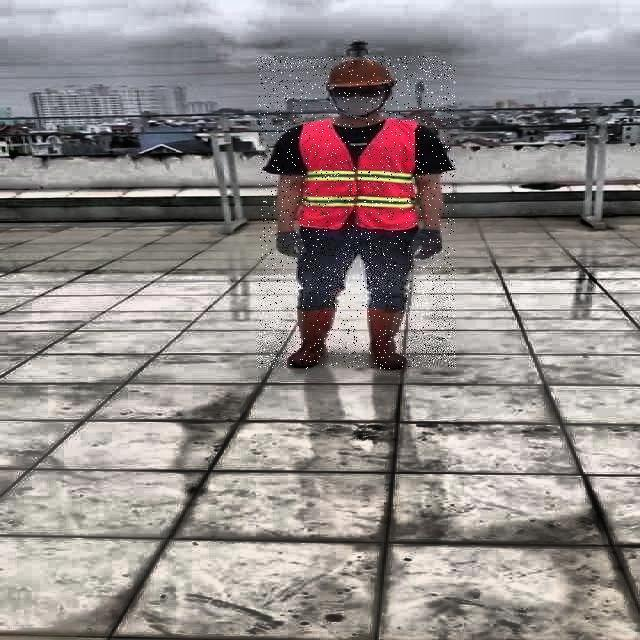safety_helmet: (324, 58, 394, 88)
safety_jacket: (300, 118, 422, 230)
